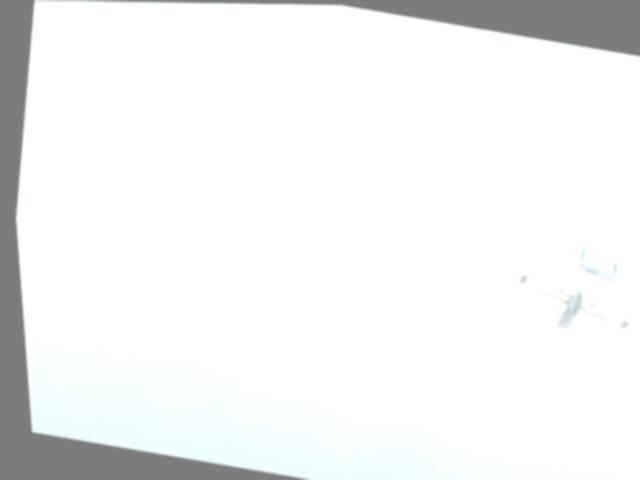iha: (494, 230, 640, 345)
